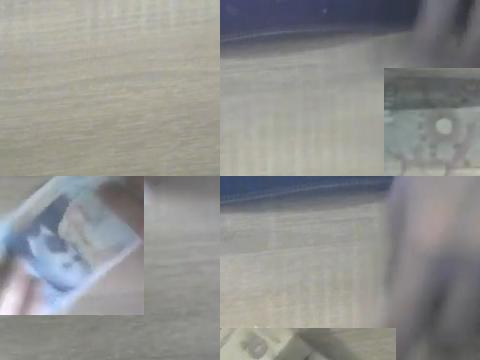10leva: (384, 70, 480, 176)
20leva: (0, 176, 143, 315)
